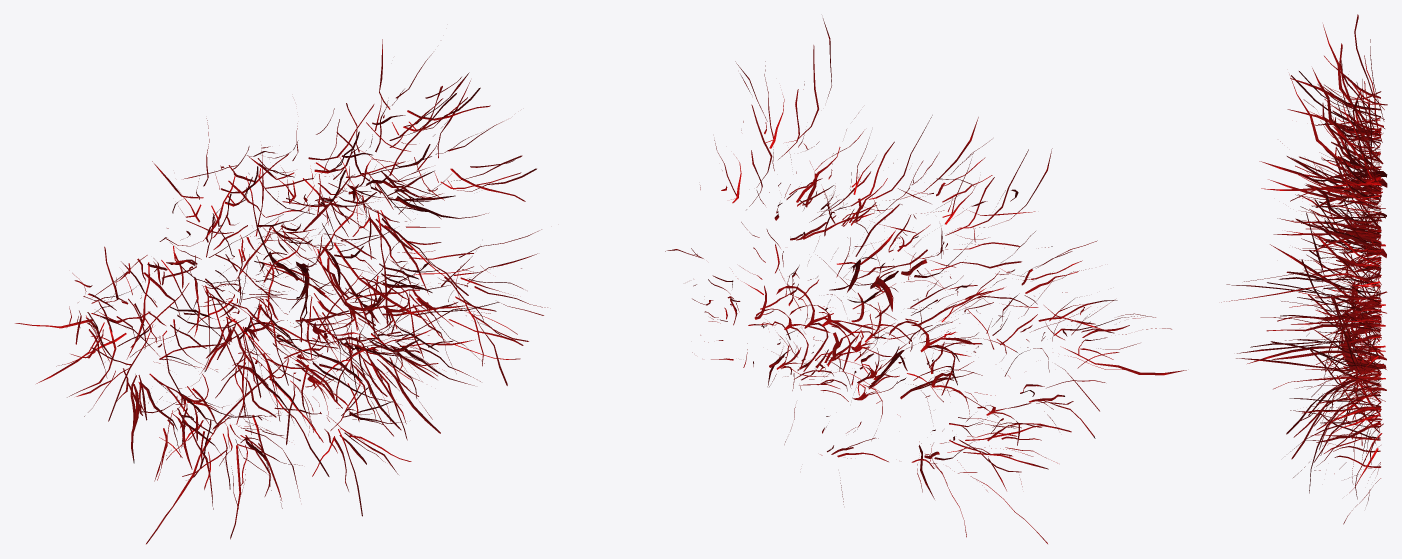
File: TundraGrass_LOD0_Var5.gltf
3 renders of one model, left to right at view 1: azimuth 30°, elevation 25°; view 2: azimuth 150°, elevation 25°; view 3: azimuth 270°, elevation 25°, orthographic. The views are drawn at different scales.
Parts seen in each view (by area): view 1: lods_0; view 2: lods_0; view 3: lods_0.
Part boxes in pixels (<box>): lods_0: <box>15,39,547,544</box>; lods_0: <box>665,18,1186,543</box>; lods_0: <box>1221,14,1387,524</box>.
Bounding box in the file's own units: 1.93 × 1.56 × 0.484.
Materials: 1 (1 with a texture image).
